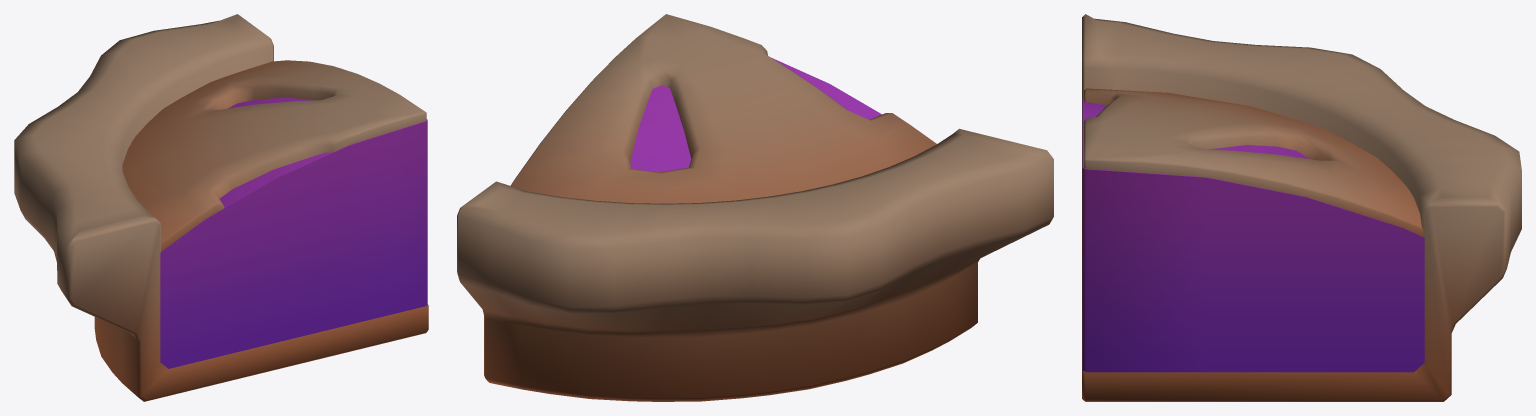
The model's file is Pie_Piece.glb.
The picture shows the model from 3 angles, left to right: view 1: azimuth 30°, elevation 25°; view 2: azimuth 150°, elevation 25°; view 3: azimuth 270°, elevation 25°; orthographic projection. The views are drawn at different scales.
Parts seen in each view (by area): view 1: geometry_0; view 2: geometry_0; view 3: geometry_0.
Part boxes in pixels (x1=…): geometry_0: x1=14, y1=14, x2=428, y2=401; geometry_0: x1=457, y1=14, x2=1053, y2=401; geometry_0: x1=1082, y1=14, x2=1521, y2=401.
Bounding box in the file's own units: 0.208 × 0.122 × 0.1997.
1 material, 1 textured.
